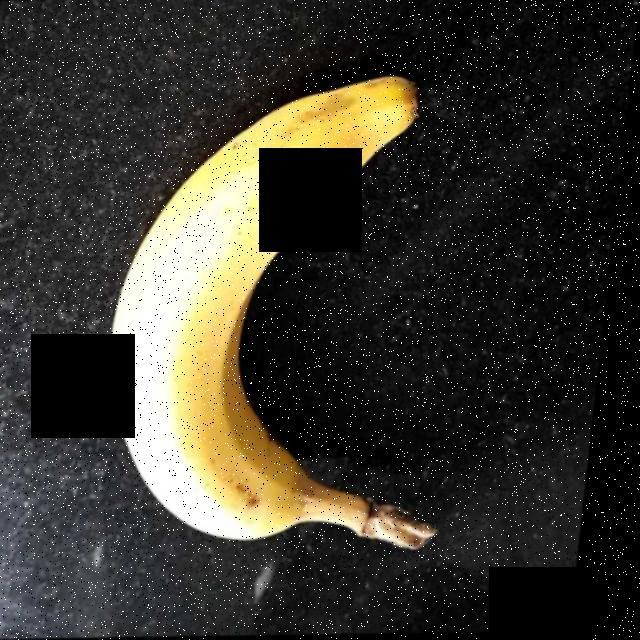banana: (111, 75, 439, 548)
